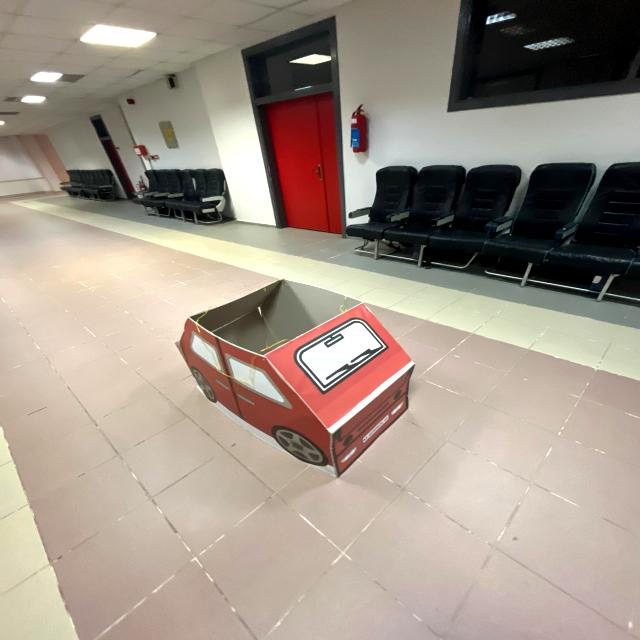red_car: (166, 281, 460, 489)
